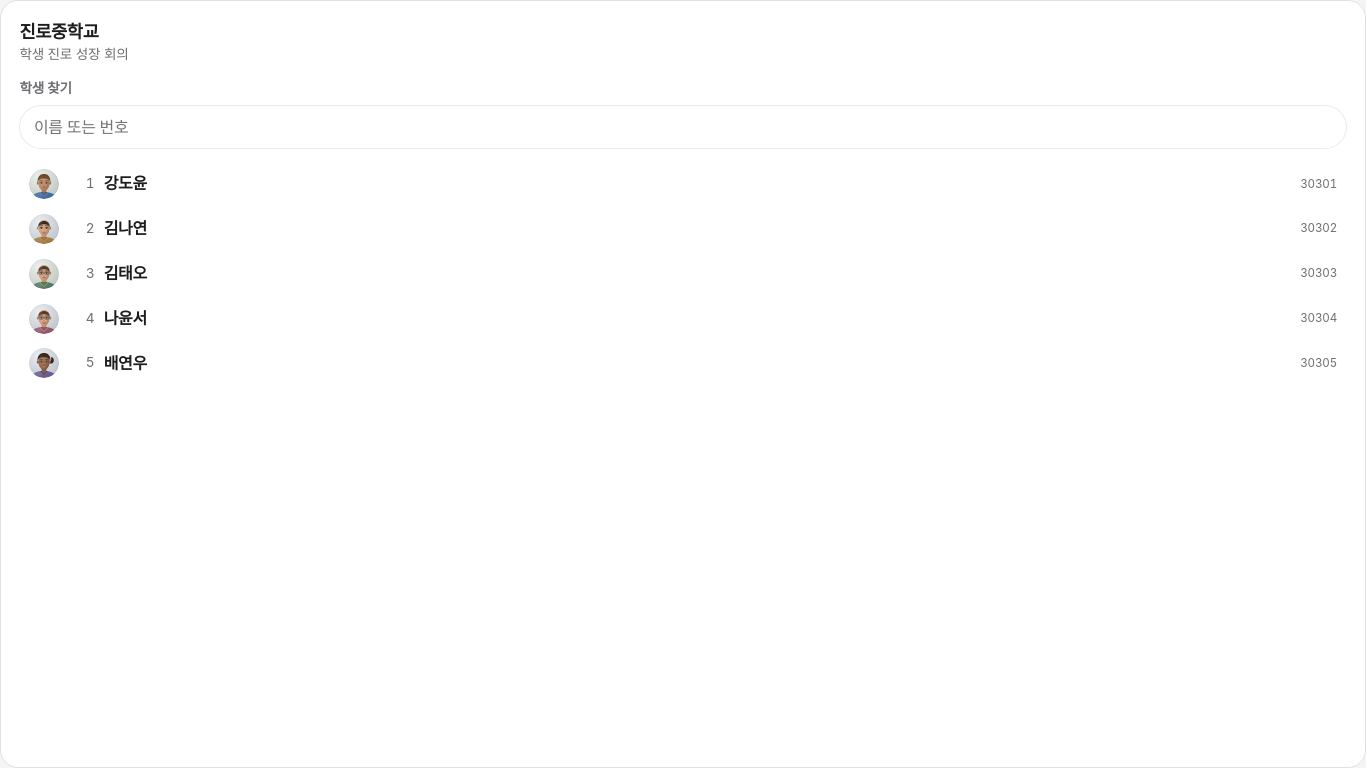
Test: Sidebar › 번호로도 찾을 수 있다
expect the link "1 강도윤 30301" is shown: met, box [19,163,1347,206]
Type "5" into the search field labelled "학생 찾기".
click(683, 127); type("5")  # box [19,105,1347,149]
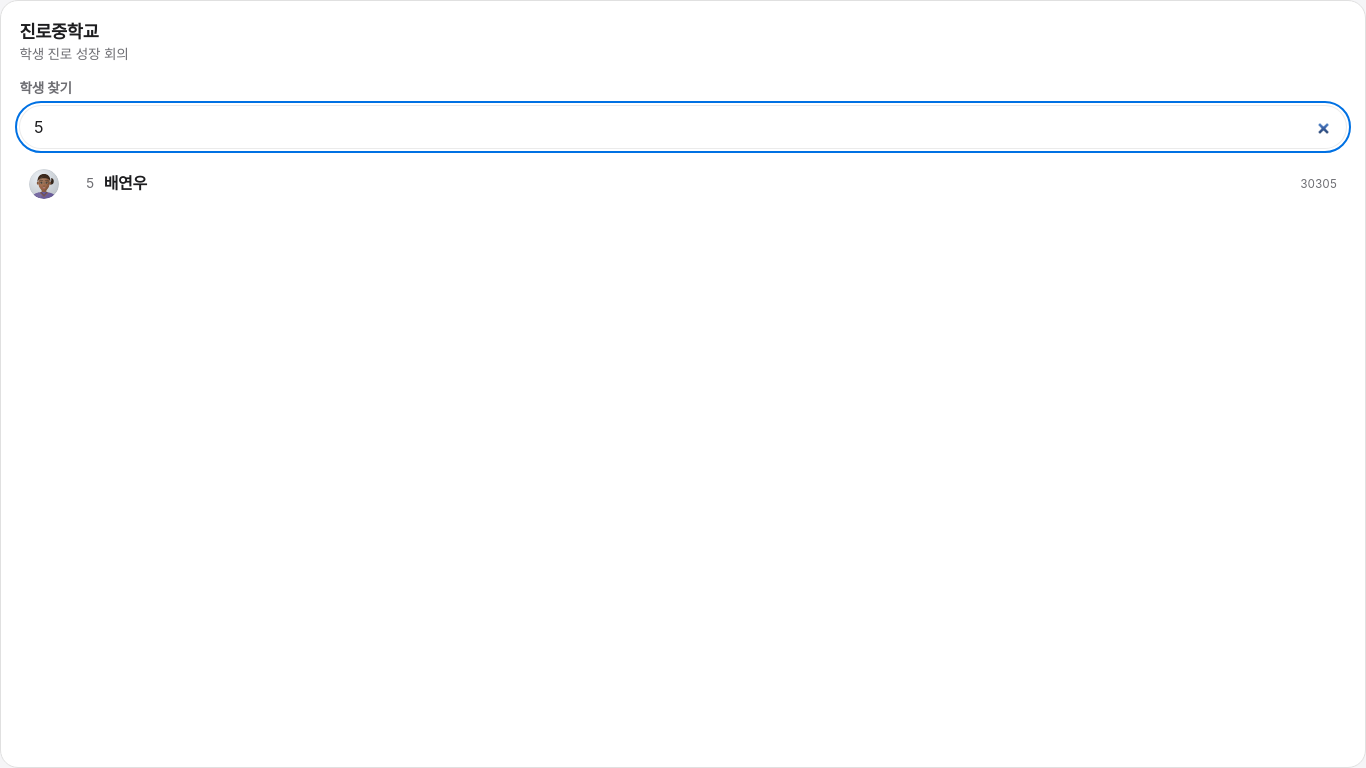
expect the link "5 배연우 30305" is shown: met, box [19,163,1347,206]
expect the link "강도윤" is gone: met
